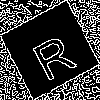R: (25, 24, 79, 83)
